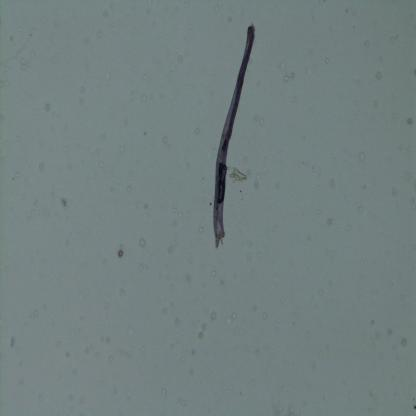Background material: (0, 29, 37, 64), (229, 166, 248, 184), (15, 55, 31, 70), (166, 239, 178, 255), (162, 134, 172, 150), (124, 324, 135, 338), (136, 257, 145, 272), (8, 332, 16, 348), (118, 242, 126, 257), (97, 334, 112, 342), (28, 309, 40, 319), (356, 200, 364, 214), (196, 330, 206, 340), (62, 196, 69, 210), (1, 74, 8, 87), (327, 217, 337, 226), (37, 162, 47, 171), (123, 185, 134, 193), (374, 69, 382, 80), (225, 316, 232, 328), (246, 249, 253, 261), (106, 354, 115, 363), (160, 387, 168, 397), (386, 326, 394, 336), (368, 391, 378, 399), (138, 237, 146, 247), (404, 172, 412, 182), (77, 96, 85, 106), (184, 274, 192, 283), (401, 338, 409, 347), (405, 116, 413, 125), (171, 202, 179, 211), (118, 288, 125, 298), (180, 396, 186, 407), (117, 145, 125, 153), (260, 312, 268, 320), (201, 321, 208, 330), (64, 349, 71, 358), (190, 346, 196, 356), (78, 395, 84, 405), (210, 310, 216, 320), (253, 180, 259, 190), (250, 304, 257, 312), (227, 14, 234, 22), (181, 0, 188, 8), (108, 2, 114, 11), (359, 151, 364, 161), (330, 179, 336, 187), (284, 74, 290, 82), (78, 87, 84, 95), (103, 9, 109, 17), (328, 24, 334, 32), (291, 95, 296, 104), (99, 159, 104, 168), (194, 127, 199, 136), (174, 318, 180, 325), (94, 32, 101, 38), (210, 143, 216, 150), (210, 269, 216, 276), (259, 118, 265, 125), (315, 183, 320, 191), (319, 288, 324, 296), (46, 102, 51, 110), (15, 170, 20, 178), (142, 73, 147, 81), (142, 93, 146, 102), (83, 348, 89, 354), (161, 308, 167, 314), (167, 71, 174, 76), (392, 187, 396, 195), (144, 202, 148, 210), (291, 321, 296, 327), (318, 351, 323, 357), (254, 115, 259, 121), (290, 72, 295, 78), (177, 212, 182, 218), (143, 130, 147, 137), (200, 227, 204, 234), (262, 167, 267, 172), (239, 390, 243, 396), (413, 68, 416, 75), (222, 280, 226, 285), (255, 350, 260, 354), (400, 294, 404, 299), (325, 57, 329, 62), (215, 6, 219, 11), (346, 8, 350, 13), (413, 404, 416, 410), (11, 36, 14, 42), (317, 210, 321, 214), (372, 320, 376, 324), (232, 313, 235, 318), (257, 173, 260, 178)
Cotton: (211, 23, 257, 249)
